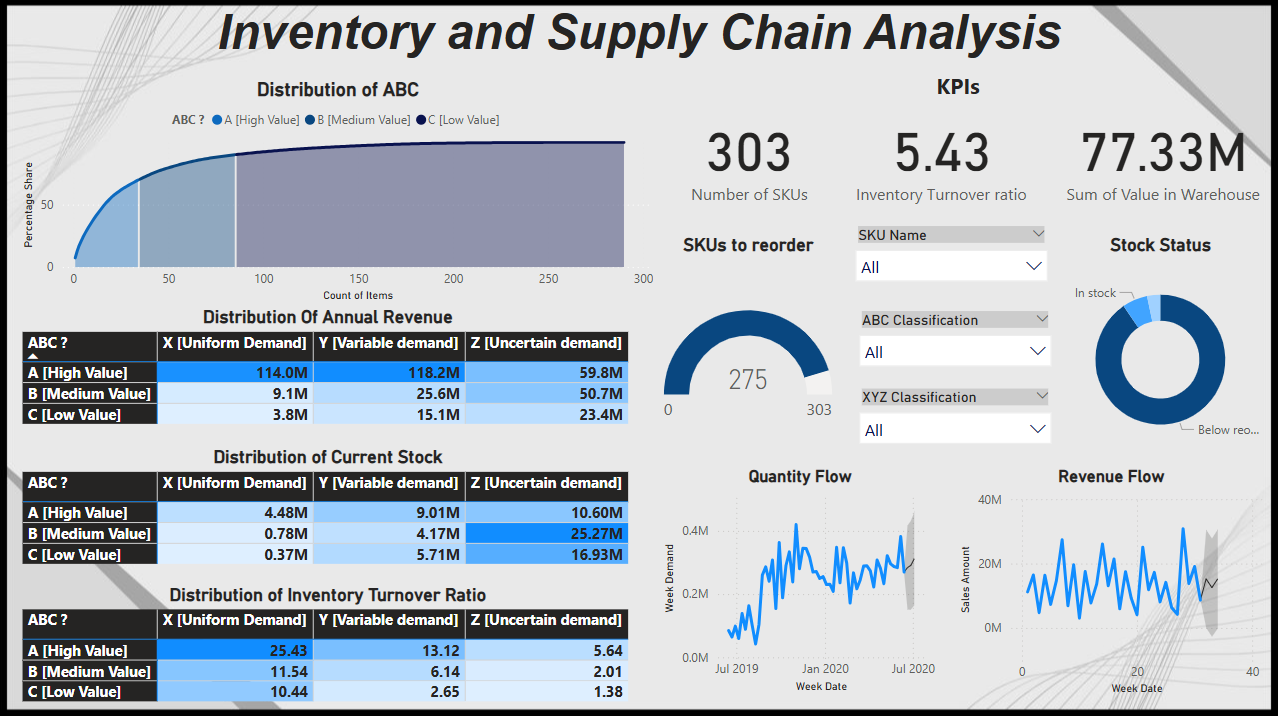

The dashboard page shown, as its layout file describes it:
{"tool":"powerbi","page":{"name":"Page 1","canvas":[1280,720],"ordinal":0},"visuals":[{"type":"lineChart","title":"Distribution of ABC","fields":{"Category":["Stock.ABC Rank"],"Y":["Avg(Stock.Cumulative share)"],"Series":["Stock.ABC ?"]},"box":[18.9,78.4,640.5,228.4],"z":0},{"type":"pivotTable","title":"Distribution Of Annual Revenue","fields":{"Rows":["Stock.ABC ?"],"Columns":["Stock.XYZ ?"],"Values":["Sum(Stock.Annual Revenue)"]},"box":[18.9,306.8,620.3,128.4],"z":1000},{"type":"pivotTable","title":"Distribution of Current Stock","fields":{"Rows":["Stock.ABC ?"],"Columns":["Stock.XYZ ?"],"Values":["Sum(Stock.Value in Warehouse)"]},"box":[18.9,445.9,620.3,128.4],"z":2000},{"type":"card","fields":{"Values":["Stock.Inventory Turnover ratio"]},"box":[850,90,185,131.2],"z":3000},{"type":"card","fields":{"Values":["CountNonNull(Stock.SKU ID)"]},"box":[663.8,90,173.8,131.2],"z":4000},{"type":"pivotTable","title":"Distribution of Inventory Turnover Ratio","fields":{"Rows":["Stock.ABC ?"],"Columns":["Stock.XYZ ?"],"Values":["Stock.Inventory Turnover ratio"]},"box":[18.9,583.8,620.3,133.8],"z":5000},{"type":"gauge","title":"SKUs to reorder","fields":{"Y":["Stock.SKUs to reorder"],"MaxValue":["CountNonNull(Stock.Stock status)"]},"box":[660,234.3,178.6,248.6],"z":6000},{"type":"donutChart","title":"Stock Status","fields":{"Category":["Stock.Stock status"],"Y":["CountNonNull(Stock.SKU ID)"]},"box":[1054.3,234.3,215.7,231.4],"z":7000},{"type":"lineChart","title":"Quantity Flow","fields":{"Category":["Weekly Demand Sheet.Week Date"],"Y":["Sum(Weekly Demand Sheet.Weeks demand)"]},"box":[659.5,466.2,282.4,231.1],"z":8000},{"type":"lineChart","title":"Revenue Flow","fields":{"Y":["Sum(Weekly Demand Sheet.Sales Amount)"],"Category":["Weekly Demand Sheet.Week Date.Variation.Date Hierarchy.Year","Weekly Demand Sheet.Week Date.Variation.Date Hierarchy.Quarter","Weekly Demand Sheet.Week Date.Variation.Date Hierarchy.Month","Weekly Demand Sheet.Week Date.Variation.Date Hierarchy.Day"]},"box":[956.8,466.2,312.2,233.8],"z":9000},{"type":"textbox","box":[0,0,1280,66.2],"z":10000},{"type":"card","fields":{"Values":["Sum(Stock.Value in Warehouse)"]},"box":[1058.8,90,211.2,131.2],"z":11000},{"type":"textbox","box":[932.5,66.2,295,47.5],"z":12000},{"type":"slicer","fields":{"Values":["Stock.SKU ID"]},"box":[846.2,221.2,212.5,62.5],"z":13000},{"type":"slicer","fields":{"Values":["Stock.ABC ?"]},"box":[850,306.2,212.5,62.5],"z":14000},{"type":"slicer","fields":{"Values":["Stock.XYZ ?"]},"box":[850,383.8,212.5,62.5],"z":15000}]}

Visuals, with their boxes in screenshot pixels (x1, y1, x2, y2), scaled from the page's 1280x720 canvas onto the 1278x716 screenshot:
"Distribution of ABC" lineChart: [left=19, top=78, right=658, bottom=305]
"Distribution Of Annual Revenue" pivotTable: [left=19, top=305, right=638, bottom=433]
"Distribution of Current Stock" pivotTable: [left=19, top=443, right=638, bottom=571]
card - Stock.Inventory Turnover ratio: [left=849, top=90, right=1033, bottom=220]
card - CountNonNull(Stock.SKU ID): [left=663, top=90, right=836, bottom=220]
"Distribution of Inventory Turnover Ratio" pivotTable: [left=19, top=581, right=638, bottom=714]
"SKUs to reorder" gauge: [left=659, top=233, right=837, bottom=480]
"Stock Status" donutChart: [left=1053, top=233, right=1268, bottom=463]
"Quantity Flow" lineChart: [left=658, top=464, right=940, bottom=693]
"Revenue Flow" lineChart: [left=955, top=464, right=1267, bottom=696]
textbox: [left=0, top=0, right=1277, bottom=66]
card - Sum(Stock.Value in Warehouse): [left=1057, top=90, right=1268, bottom=220]
textbox: [left=931, top=66, right=1226, bottom=113]
slicer - Stock.SKU ID: [left=845, top=220, right=1057, bottom=282]
slicer - Stock.ABC ?: [left=849, top=304, right=1061, bottom=367]
slicer - Stock.XYZ ?: [left=849, top=382, right=1061, bottom=444]
